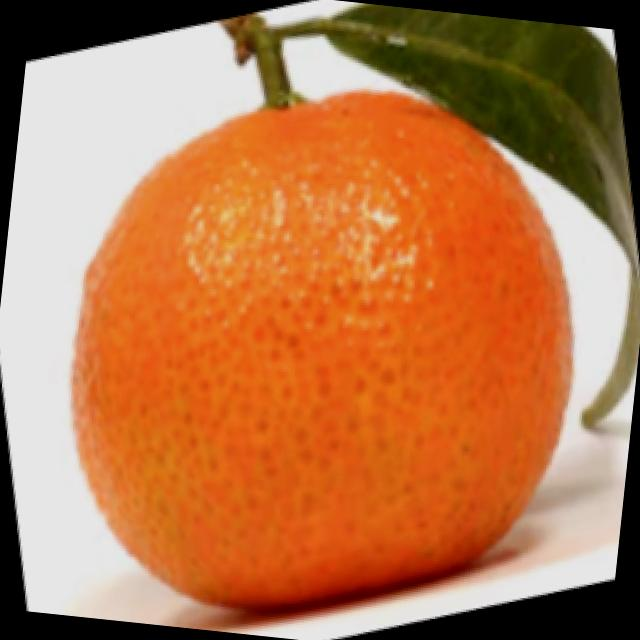Fresh_Orange: (4, 24, 630, 634)
